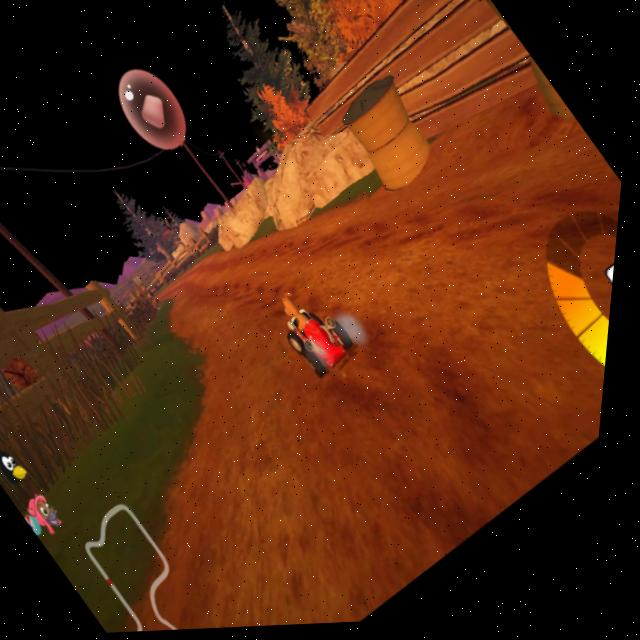off_track: (24, 299, 220, 484)
player_kart: (261, 275, 381, 398)
track: (302, 170, 566, 441), (161, 233, 279, 346)
